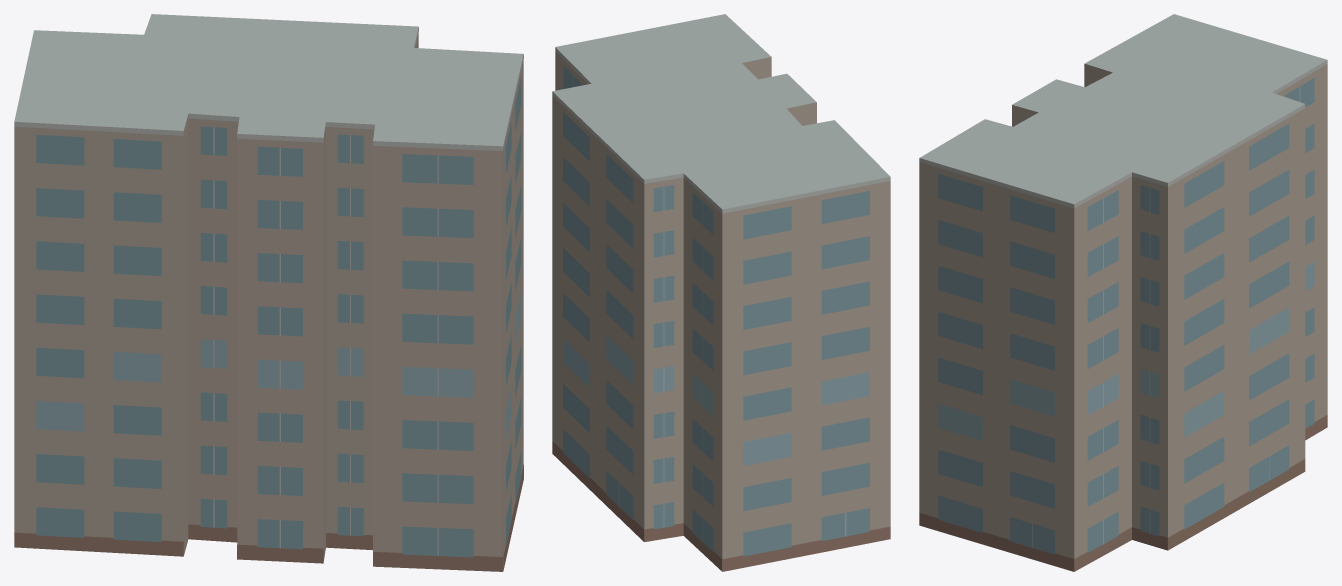
The model's file is survey-upis-32669906.glb.
3 renders of one model, left to right at view 1: azimuth 30°, elevation 25°; view 2: azimuth 150°, elevation 25°; view 3: azimuth 270°, elevation 25°, orthographic. The views are drawn at different scales.
Visible parts, largest first — view 1: survey-upis-32669906.tmp; view 2: survey-upis-32669906.tmp; view 3: survey-upis-32669906.tmp.
Boxes of the visible parts, box(x1,y1,x2,y2) form: survey-upis-32669906.tmp: box(14, 14, 523, 571); survey-upis-32669906.tmp: box(552, 14, 890, 571); survey-upis-32669906.tmp: box(919, 14, 1327, 571).
Bounding box in the file's own units: 24.11 × 21.7 × 21.84.
